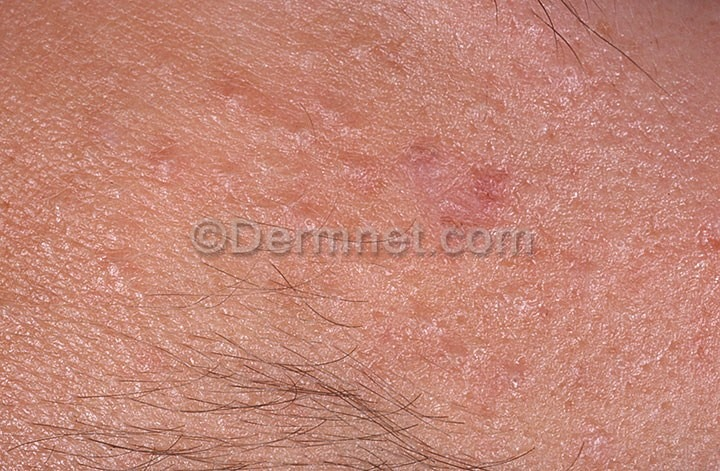Acne: (110, 94, 545, 279)
